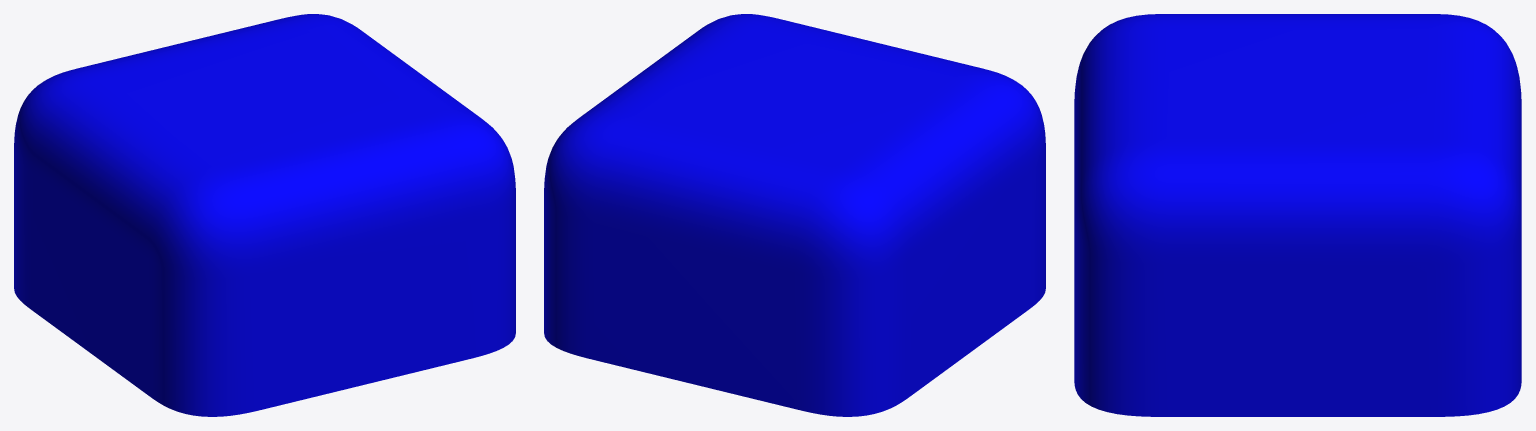
Rendered from ChainHead.fbx.
The picture shows the model from 3 angles, left to right: view 1: azimuth 30°, elevation 25°; view 2: azimuth 150°, elevation 25°; view 3: azimuth 270°, elevation 25°; orthographic projection. The views are drawn at different scales.
Visible parts, largest first — view 1: Cube; view 2: Cube; view 3: Cube.
Part boxes in pixels (box(x1,y1,x2,y2)): Cube: box(14, 14, 515, 416); Cube: box(544, 14, 1045, 416); Cube: box(1074, 14, 1521, 416).
Size of the model in its own units: 115 by 67.5 by 115.
